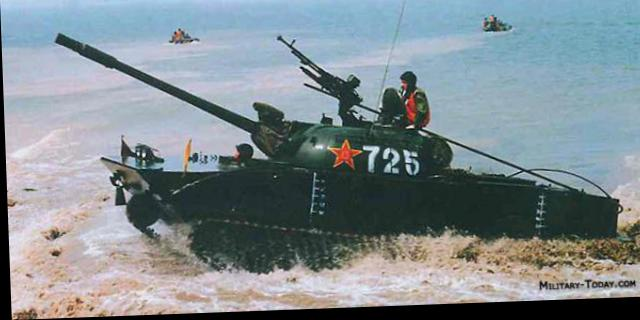other: (395, 77, 430, 132), (232, 139, 249, 163)
tank: (103, 70, 618, 267)
